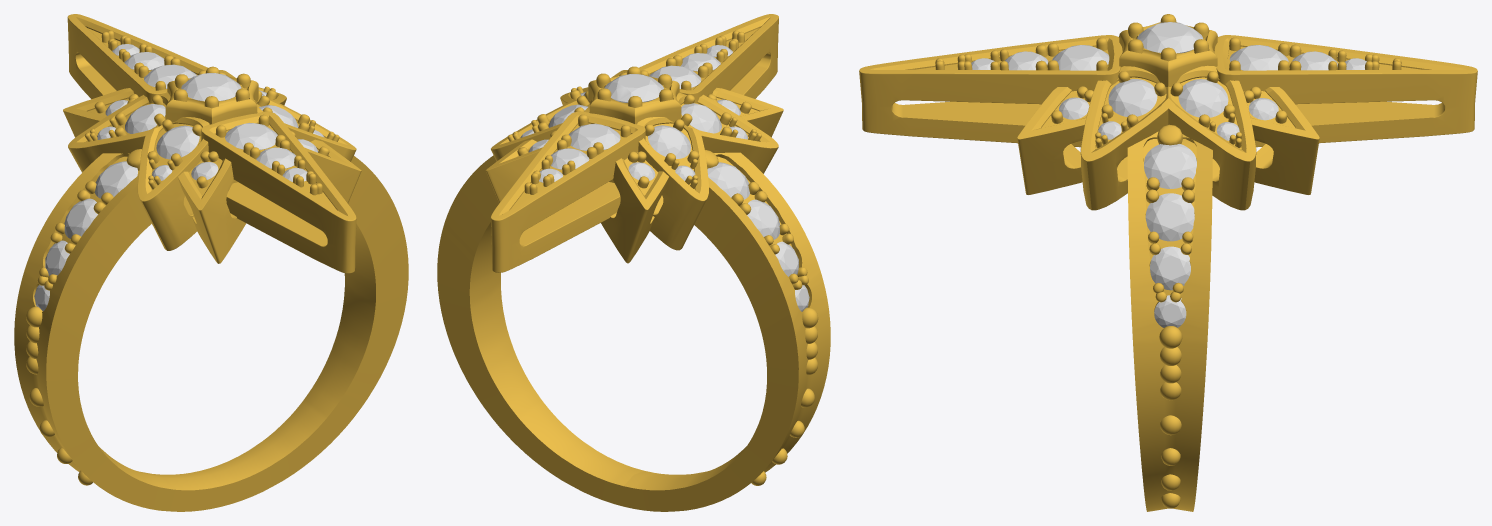
The model's file is Ring_B_Optimazed_02_StoneCuts.fbx.
3 renders of one model, left to right at view 1: azimuth 30°, elevation 25°; view 2: azimuth 150°, elevation 25°; view 3: azimuth 270°, elevation 25°, orthographic. The views are drawn at different scales.
Parts seen in each view (by area): view 1: Ring_B_02_01_Object, Ring_B_02_Diamod_Object, Ring_B_02_02_Object; view 2: Ring_B_02_01_Object, Ring_B_02_Diamod_Object, Ring_B_02_02_Object; view 3: Ring_B_02_01_Object, Ring_B_02_Diamod_Object, Ring_B_02_02_Object.
Boxes of the visible parts, left/top/right/bottom form: Ring_B_02_01_Object: left=14, top=14, right=408, bottom=511; Ring_B_02_Diamod_Object: left=34, top=44, right=324, bottom=311; Ring_B_02_02_Object: left=26, top=30, right=339, bottom=485; Ring_B_02_01_Object: left=437, top=14, right=830, bottom=511; Ring_B_02_Diamod_Object: left=520, top=45, right=809, bottom=311; Ring_B_02_02_Object: left=507, top=30, right=818, bottom=485; Ring_B_02_01_Object: left=859, top=22, right=1477, bottom=511; Ring_B_02_Diamod_Object: left=971, top=22, right=1366, bottom=327; Ring_B_02_02_Object: left=935, top=14, right=1401, bottom=508.
Size of the model in its own units: 2.13 by 2.32 by 2.83.
